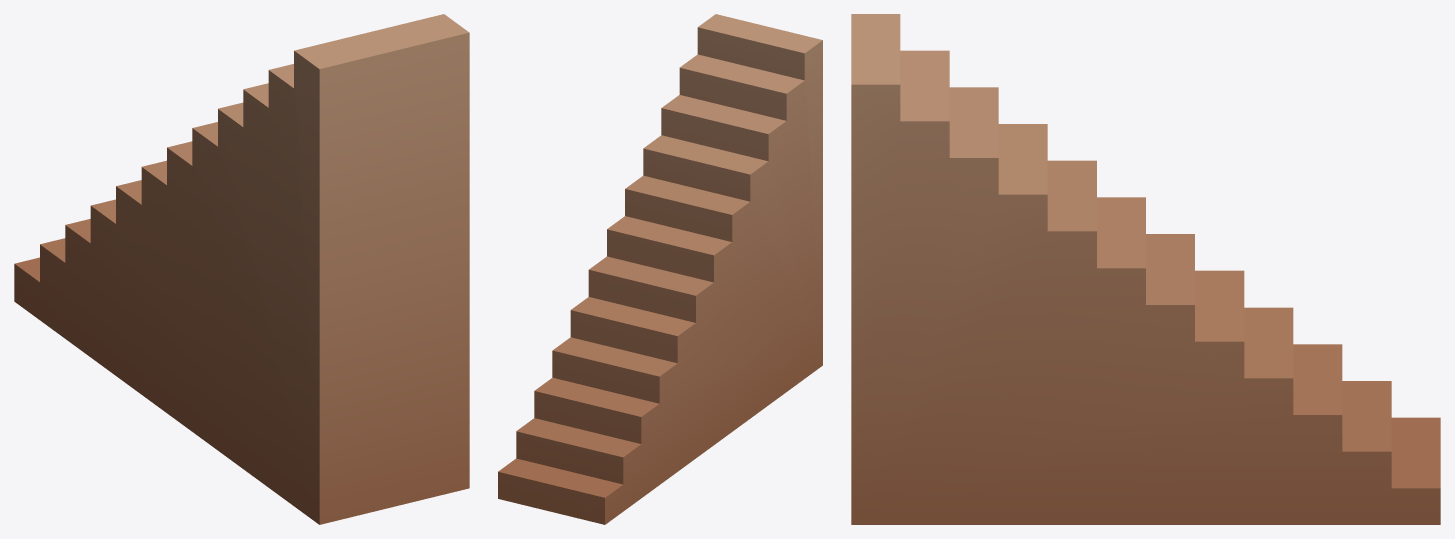
File: stairs-stone-square.glb
3 views of the same model, side by side, from view 1: azimuth 30°, elevation 25°; view 2: azimuth 150°, elevation 25°; view 3: azimuth 270°, elevation 25° (orthographic). The views are drawn at different scales.
Parts seen in each view (by area): view 1: stairs-stone-square; view 2: stairs-stone-square; view 3: stairs-stone-square.
Part boxes in pixels (<box>): stairs-stone-square: <box>14,14,469,524</box>; stairs-stone-square: <box>498,14,822,524</box>; stairs-stone-square: <box>851,14,1440,524</box>.
Size of the model in its own units: 0.2325 by 0.675 by 0.819.
